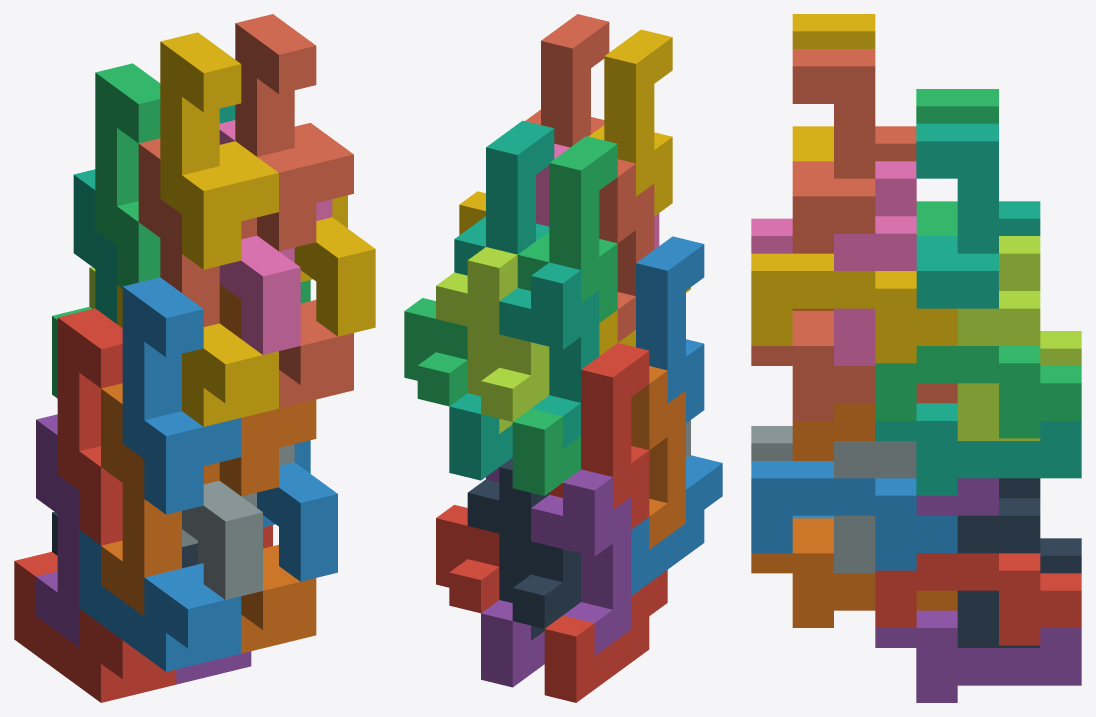
The model's file is tiling.obj.
3 renders of one model, left to right at view 1: azimuth 30°, elevation 25°; view 2: azimuth 150°, elevation 25°; view 3: azimuth 270°, elevation 25°, orthographic. The views are drawn at different scales.
Parts seen in each view (by area): view 1: copy_4_domain_4, copy_4_domain_2, copy_4_domain_8, copy_1_domain_2, copy_4_domain_1, copy_4_domain_3, copy_3_domain_2, copy_1_domain_1, copy_1_domain_4, copy_2_domain_8, copy_2_domain_6, copy_2_domain_2 (+12 smaller); view 2: copy_3_domain_1, copy_4_domain_3, copy_3_domain_3, copy_4_domain_1, copy_4_domain_4, copy_4_domain_2, copy_4_domain_7, copy_1_domain_1, copy_4_domain_8, copy_3_domain_2, copy_2_domain_3, copy_2_domain_1 (+12 smaller); view 3: copy_4_domain_8, copy_2_domain_6, copy_2_domain_8, copy_4_domain_7, copy_2_domain_5, copy_2_domain_7, copy_1_domain_7, copy_1_domain_5, copy_3_domain_7, copy_3_domain_8, copy_1_domain_6, copy_1_domain_8 (+12 smaller).
Boxes of the visible parts, bbox=[...] form: copy_4_domain_4: bbox=[160, 32, 278, 269]; copy_4_domain_2: bbox=[122, 277, 241, 514]; copy_4_domain_8: bbox=[235, 14, 353, 251]; copy_1_domain_2: bbox=[79, 530, 241, 671]; copy_4_domain_1: bbox=[57, 308, 122, 545]; copy_4_domain_3: bbox=[95, 63, 160, 288]; copy_3_domain_2: bbox=[101, 383, 219, 616]; copy_1_domain_1: bbox=[14, 551, 176, 702]; copy_1_domain_4: bbox=[117, 285, 278, 426]; copy_2_domain_8: bbox=[294, 195, 375, 336]; copy_2_domain_6: bbox=[257, 440, 337, 581]; copy_2_domain_2: bbox=[182, 480, 262, 599]; copy_3_domain_1: bbox=[531, 469, 631, 655]; copy_4_domain_3: bbox=[517, 136, 617, 322]; copy_3_domain_3: bbox=[499, 262, 599, 448]; copy_4_domain_1: bbox=[549, 343, 649, 529]; copy_4_domain_4: bbox=[589, 29, 672, 216]; copy_4_domain_2: bbox=[636, 236, 704, 422]; copy_4_domain_7: bbox=[454, 120, 554, 275]; copy_1_domain_1: bbox=[544, 570, 667, 702]; copy_4_domain_8: bbox=[525, 14, 609, 147]; copy_3_domain_2: bbox=[631, 366, 685, 549]; copy_2_domain_3: bbox=[467, 327, 549, 421]; copy_2_domain_1: bbox=[499, 533, 580, 628]; copy_4_domain_8: bbox=[792, 49, 875, 253]; copy_2_domain_6: bbox=[751, 461, 957, 570]; copy_2_domain_8: bbox=[751, 253, 957, 363]; copy_4_domain_7: bbox=[916, 123, 998, 308]; copy_2_domain_5: bbox=[875, 553, 1081, 645]; copy_2_domain_7: bbox=[875, 346, 1081, 438]; copy_1_domain_7: bbox=[875, 403, 1081, 495]; copy_1_domain_5: bbox=[875, 610, 1081, 702]; copy_3_domain_7: bbox=[957, 236, 1040, 440]; copy_3_domain_8: bbox=[834, 161, 916, 365]; copy_1_domain_6: bbox=[751, 518, 957, 627]; copy_1_domain_8: bbox=[751, 311, 957, 420].
Size of the model in its own units: 6 by 17 by 8.
